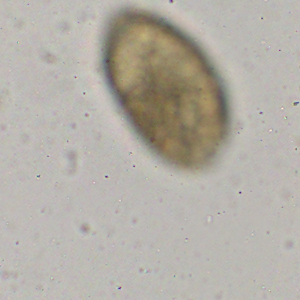Fasciola_hepatica_egg: (106, 8, 229, 170)
